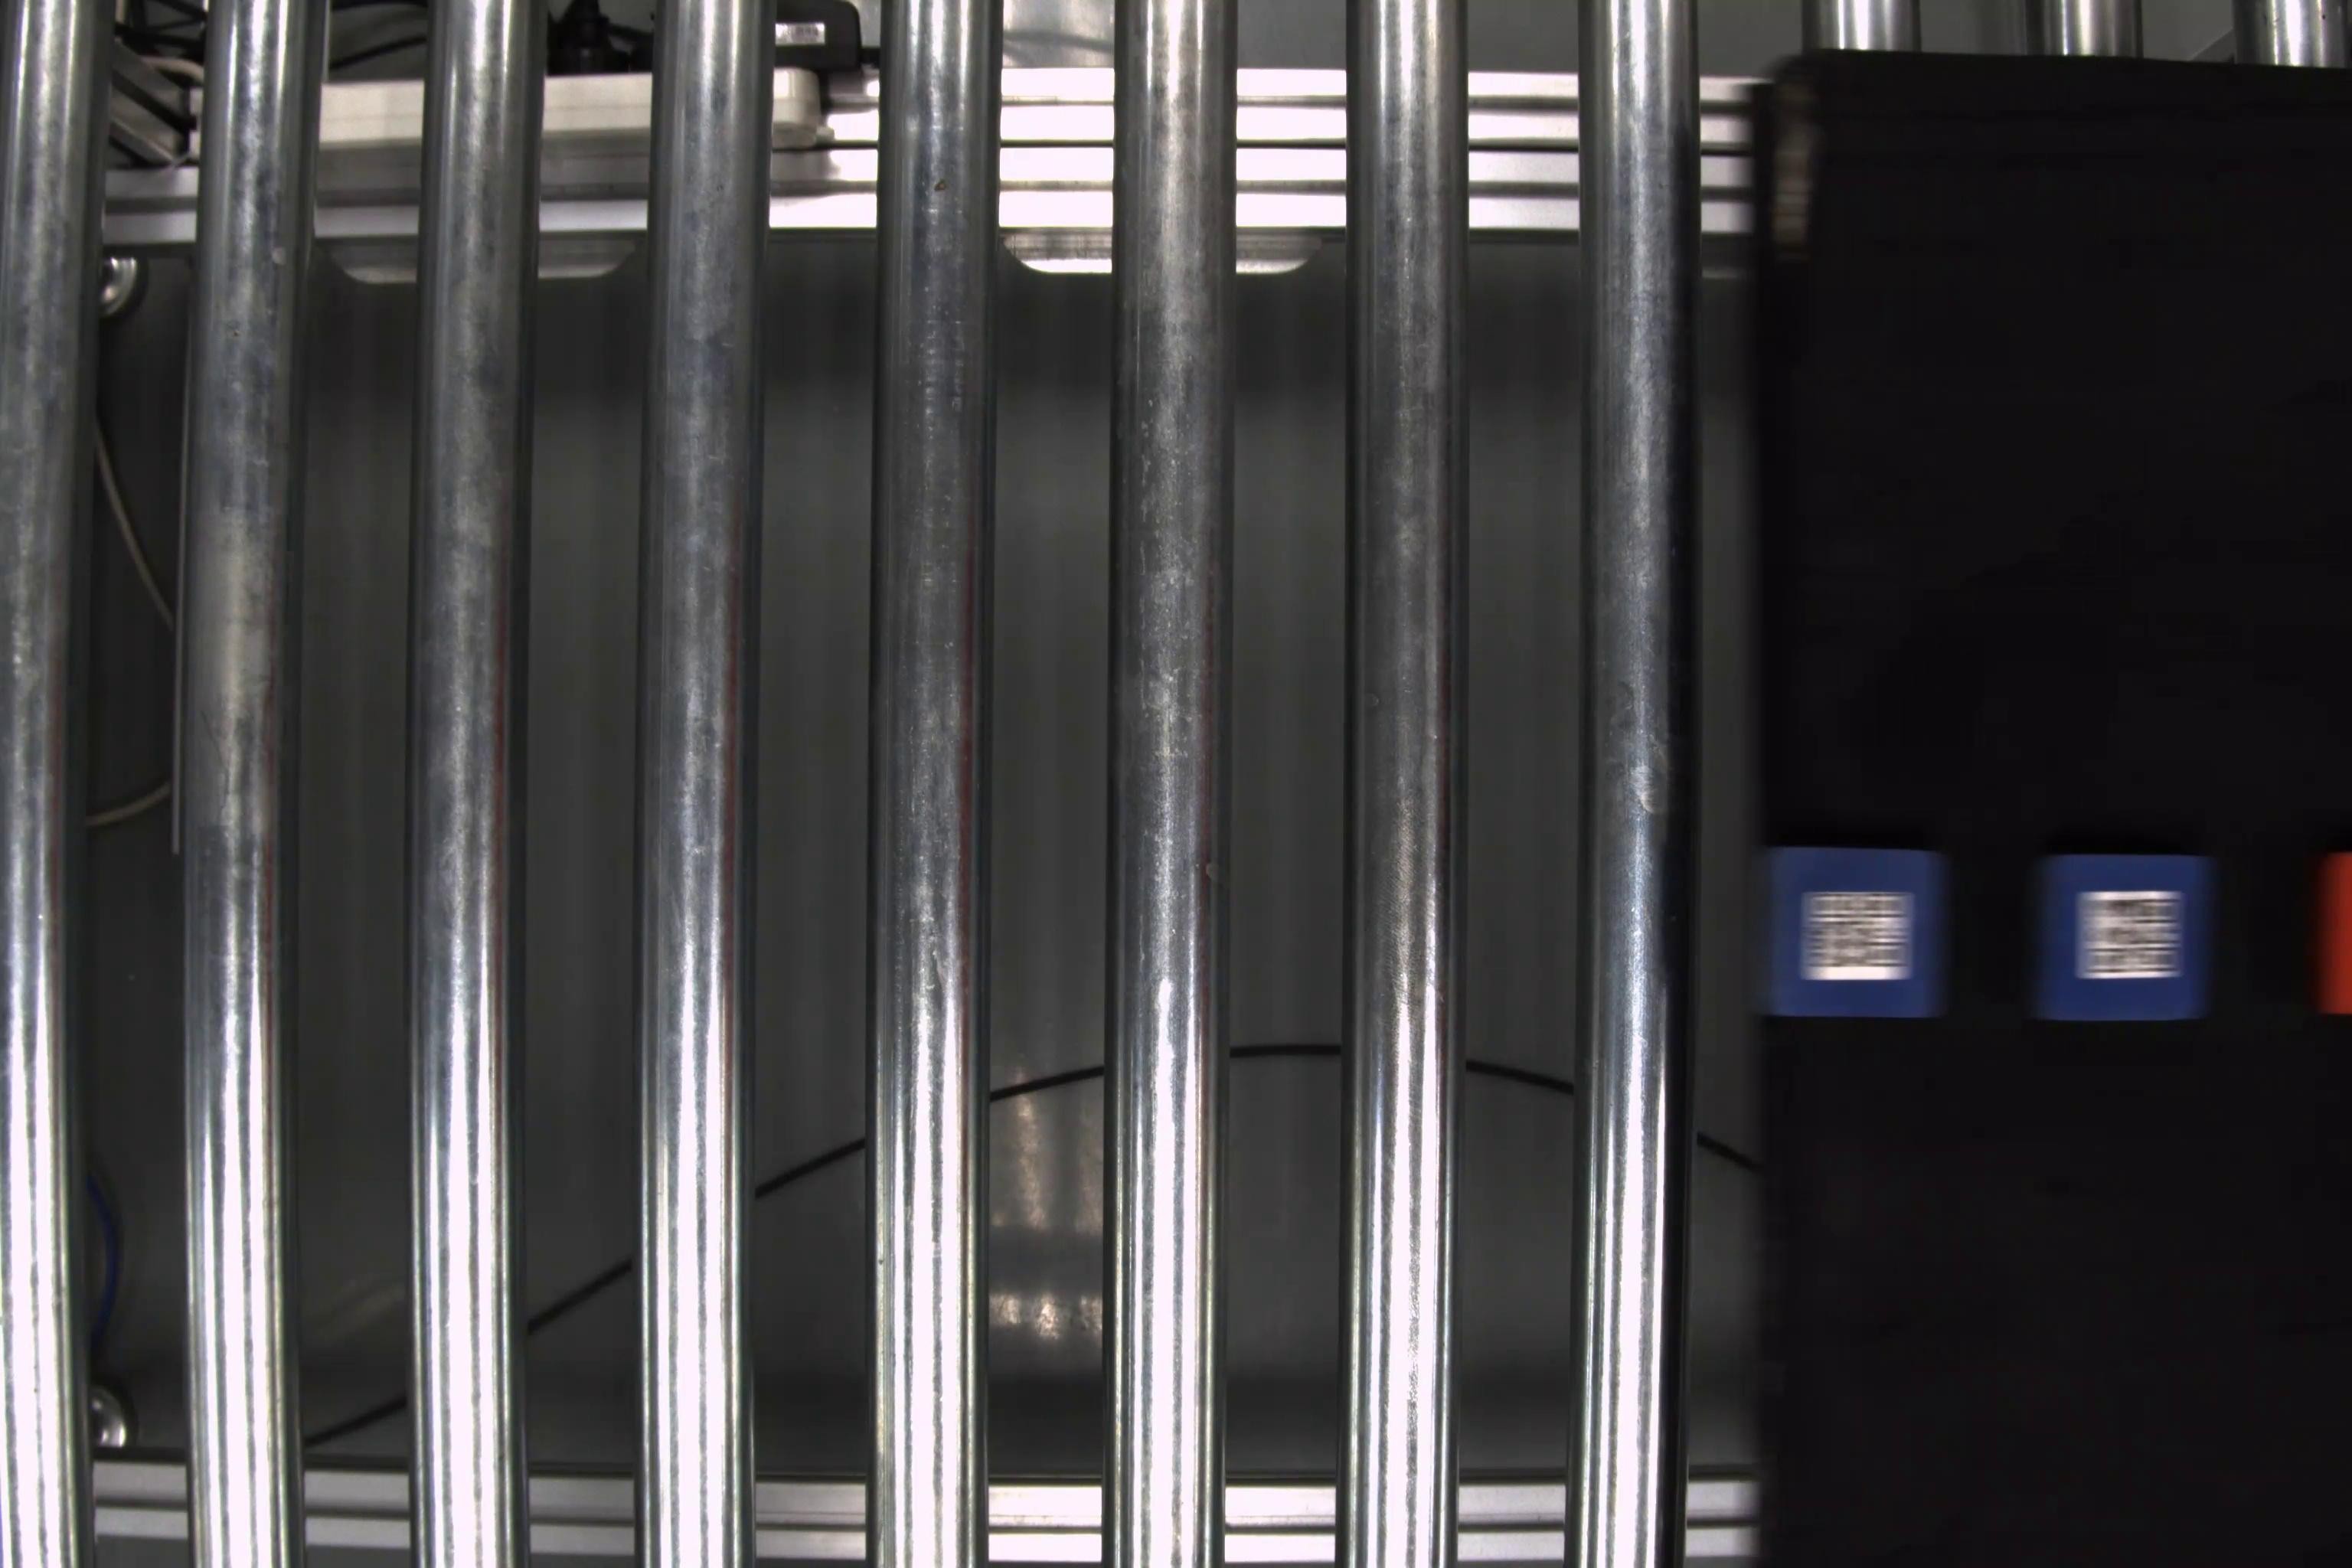wood: (1741, 843, 1960, 1022), (2021, 842, 2207, 1025)
